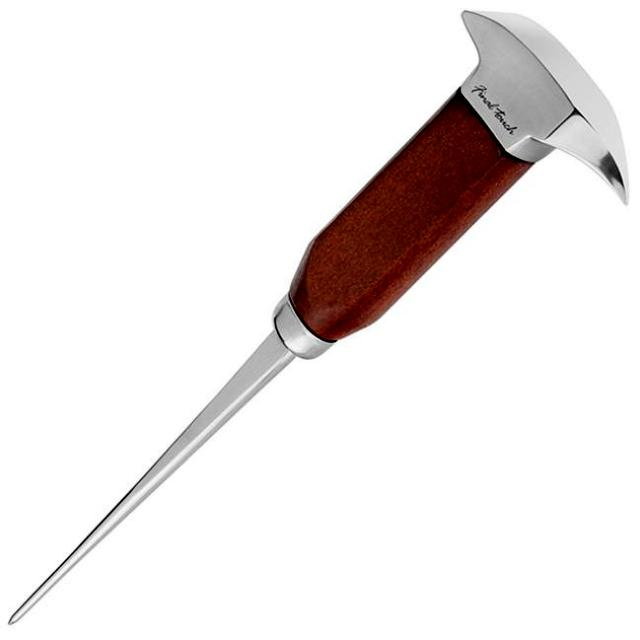ice pick: (6, 7, 632, 629)
